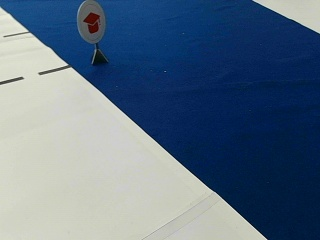school: (76, 1, 106, 43)
